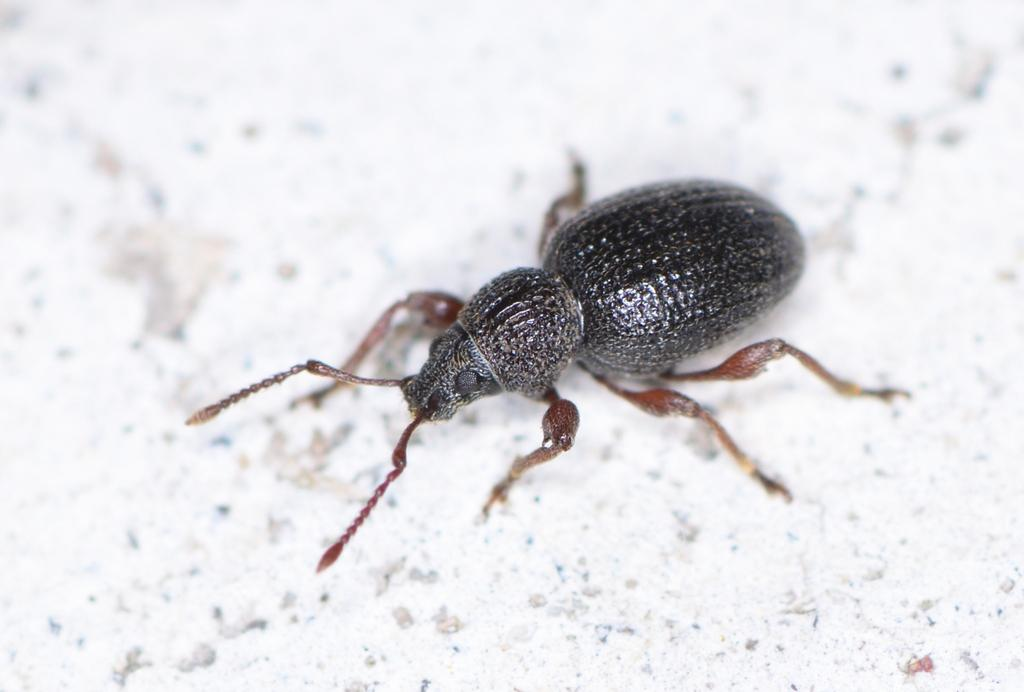weevils: (92, 86, 994, 630)
